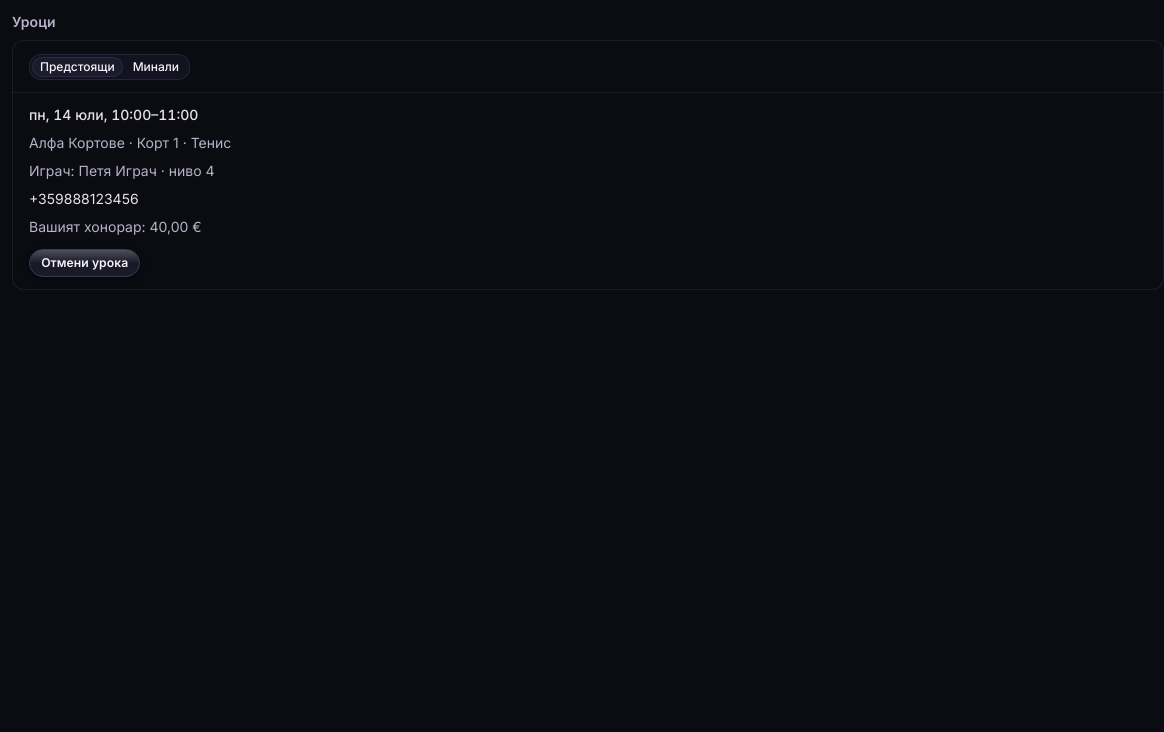
Test case: «Уроци»: what a coach is shown › the past ones are read when their tab is opened, and say how each ended
Step 1. Click the radio button labelled "Минали" → point(156, 67), box [125,57,187,77]
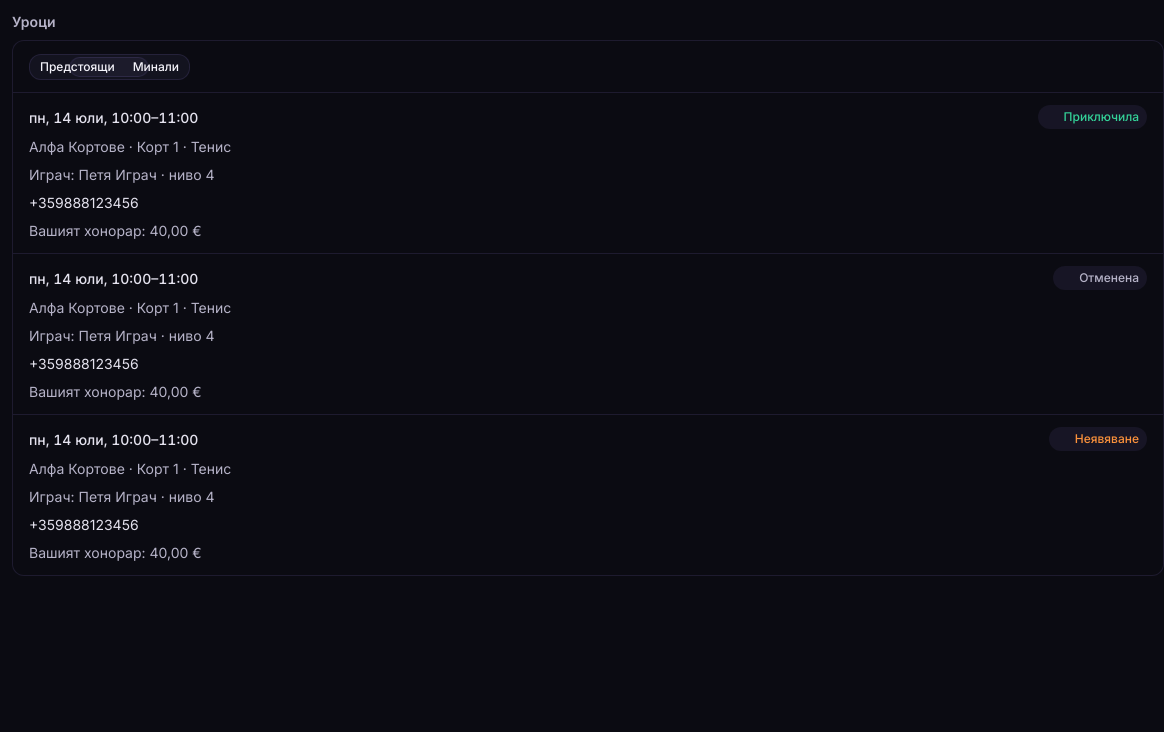
Now the number of elements with test id "coach-lesson" is 3, box [13,93,1163,254]; [13,254,1163,415]; [13,415,1163,575]
Now the text "Приключила" is shown, box [1038,105,1147,129]
Now the text "Отменена" is shown, box [1053,266,1147,290]
